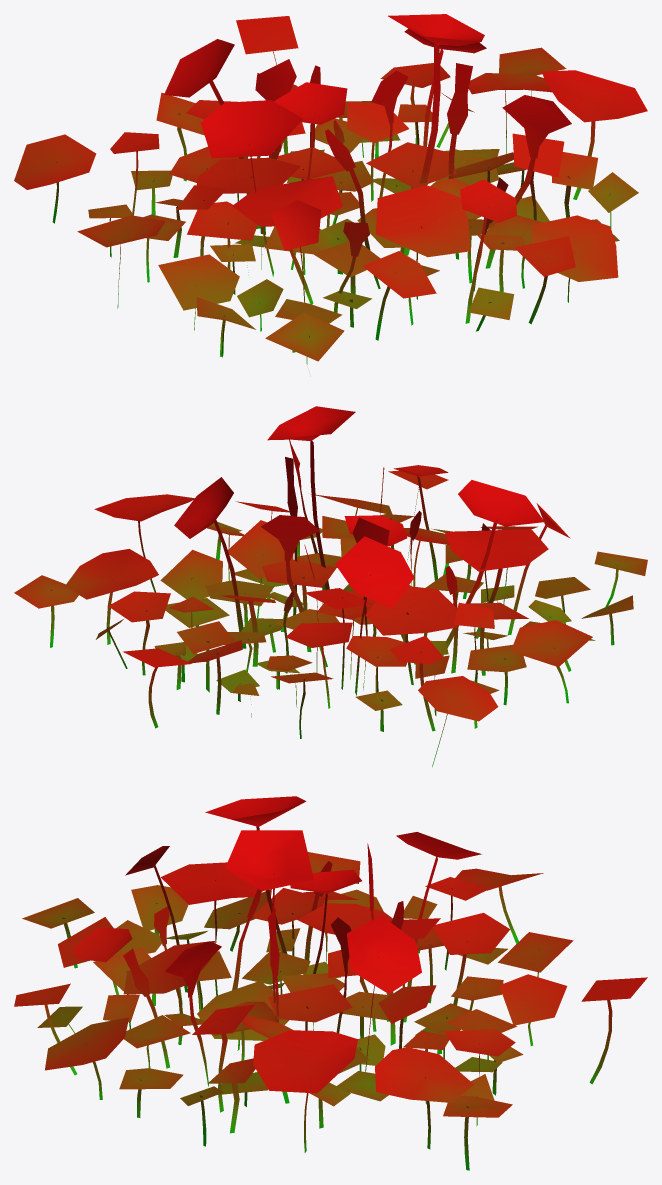
File: Var8_LOD1.fbx
3 views of the same model, one above another, from view 1: azimuth 30°, elevation 25°; view 2: azimuth 150°, elevation 25°; view 3: azimuth 270°, elevation 25° (orthographic). The views are drawn at different scales.
Visible parts, largest first — view 1: _ddb2_Var8_LOD1; view 2: _ddb2_Var8_LOD1; view 3: _ddb2_Var8_LOD1.
Part boxes in pixels (x1,y1,x2,y2): _ddb2_Var8_LOD1: (14,14,647,364); _ddb2_Var8_LOD1: (14,406,647,766); _ddb2_Var8_LOD1: (14,796,647,1170).
Bounding box in the file's own units: 45.19 × 19.05 × 46.1.
